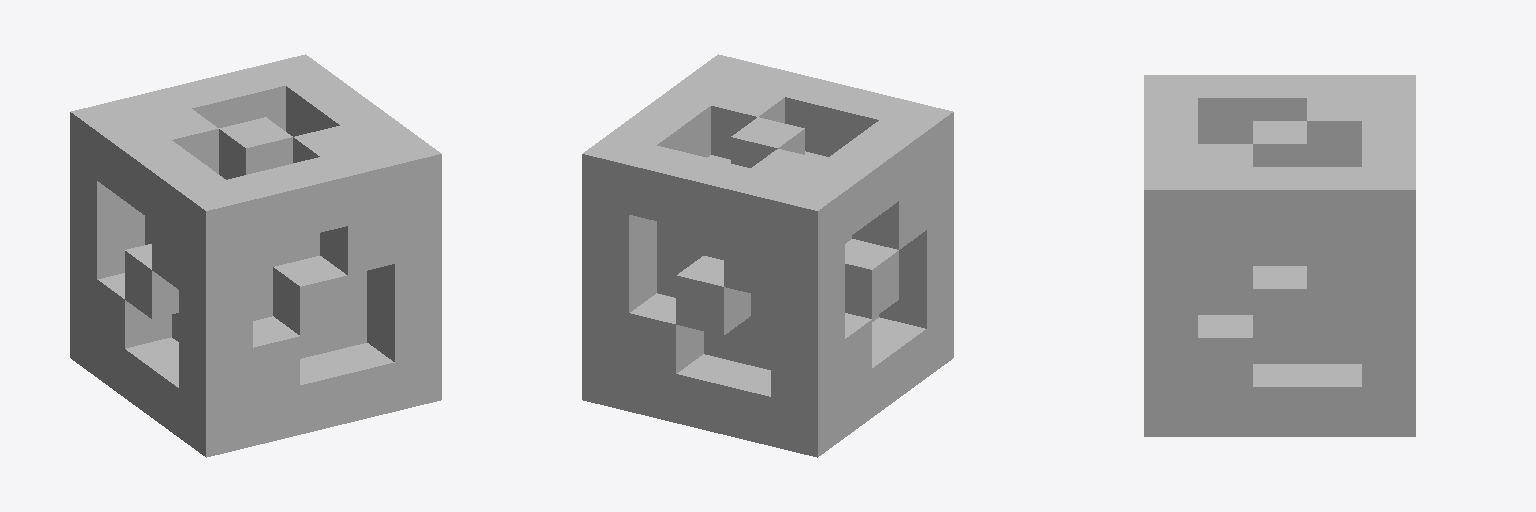
Rendered from villageCrateSmall-0.obj.
3 views of the same model, side by side, from view 1: azimuth 30°, elevation 25°; view 2: azimuth 150°, elevation 25°; view 3: azimuth 270°, elevation 25° (orthographic).
Parts seen in each view (by area): view 1: object 1; view 2: object 1; view 3: object 1.
Part boxes in pixels (x1,y1,x2,y2): object 1: (70, 54, 441, 457); object 1: (582, 54, 953, 457); object 1: (1144, 75, 1415, 436).
Bounding box in the file's own units: 0.5 × 0.5 × 0.5.